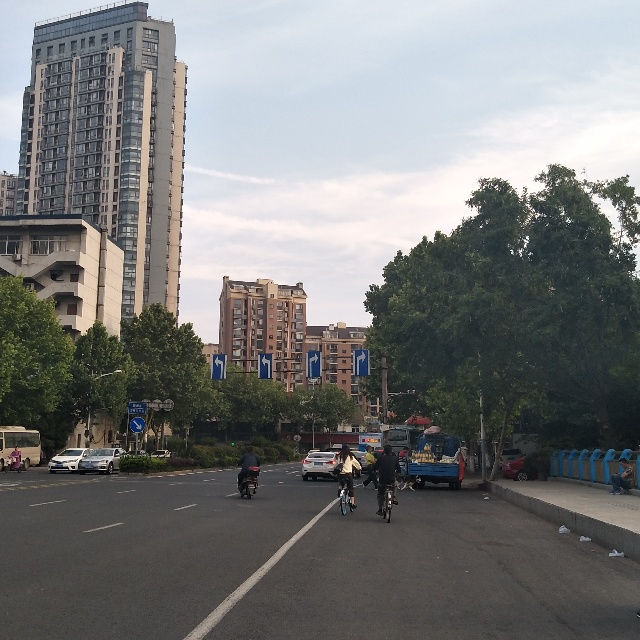left: (256, 351, 274, 378), (211, 354, 228, 379)
right: (352, 350, 370, 375), (306, 351, 321, 378)
